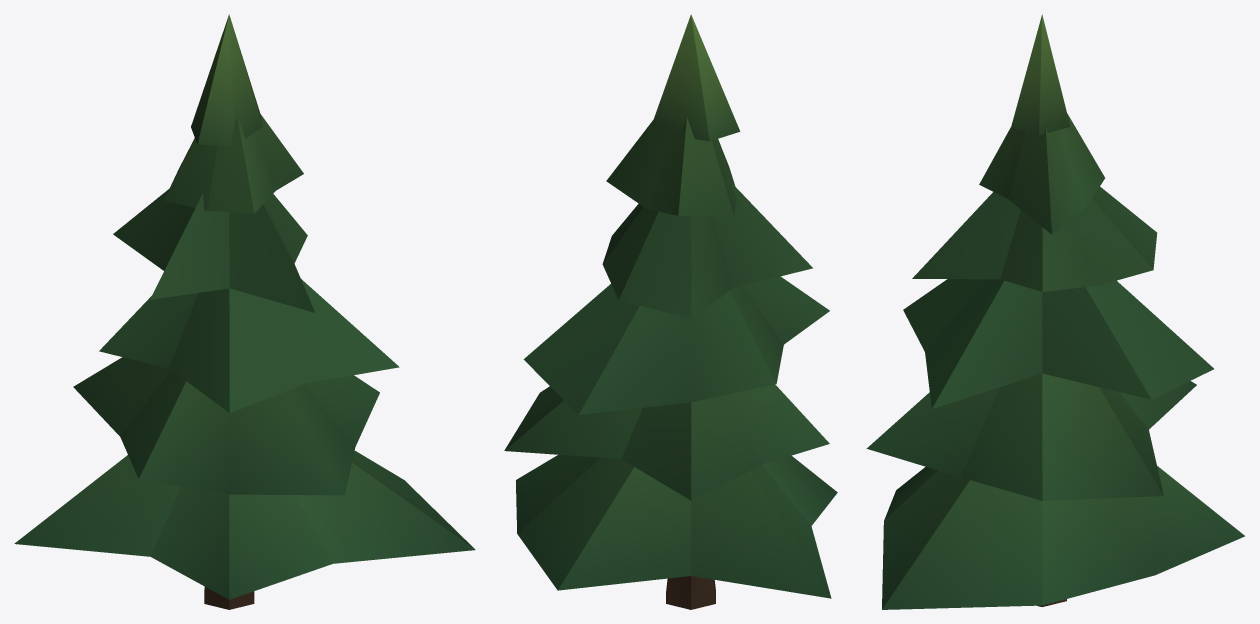
File: pine.glb
The picture shows the model from 3 angles, left to right: view 1: azimuth 30°, elevation 25°; view 2: azimuth 150°, elevation 25°; view 3: azimuth 270°, elevation 25°; orthographic projection.
Parts seen in each view (by area): view 1: pine; view 2: pine; view 3: pine.
Boxes of the visible parts, bbox=[...] form: pine: bbox=[14, 14, 475, 609]; pine: bbox=[504, 14, 837, 609]; pine: bbox=[866, 14, 1244, 609].
Size of the model in its own units: 4.24 by 6.7 by 3.96.
